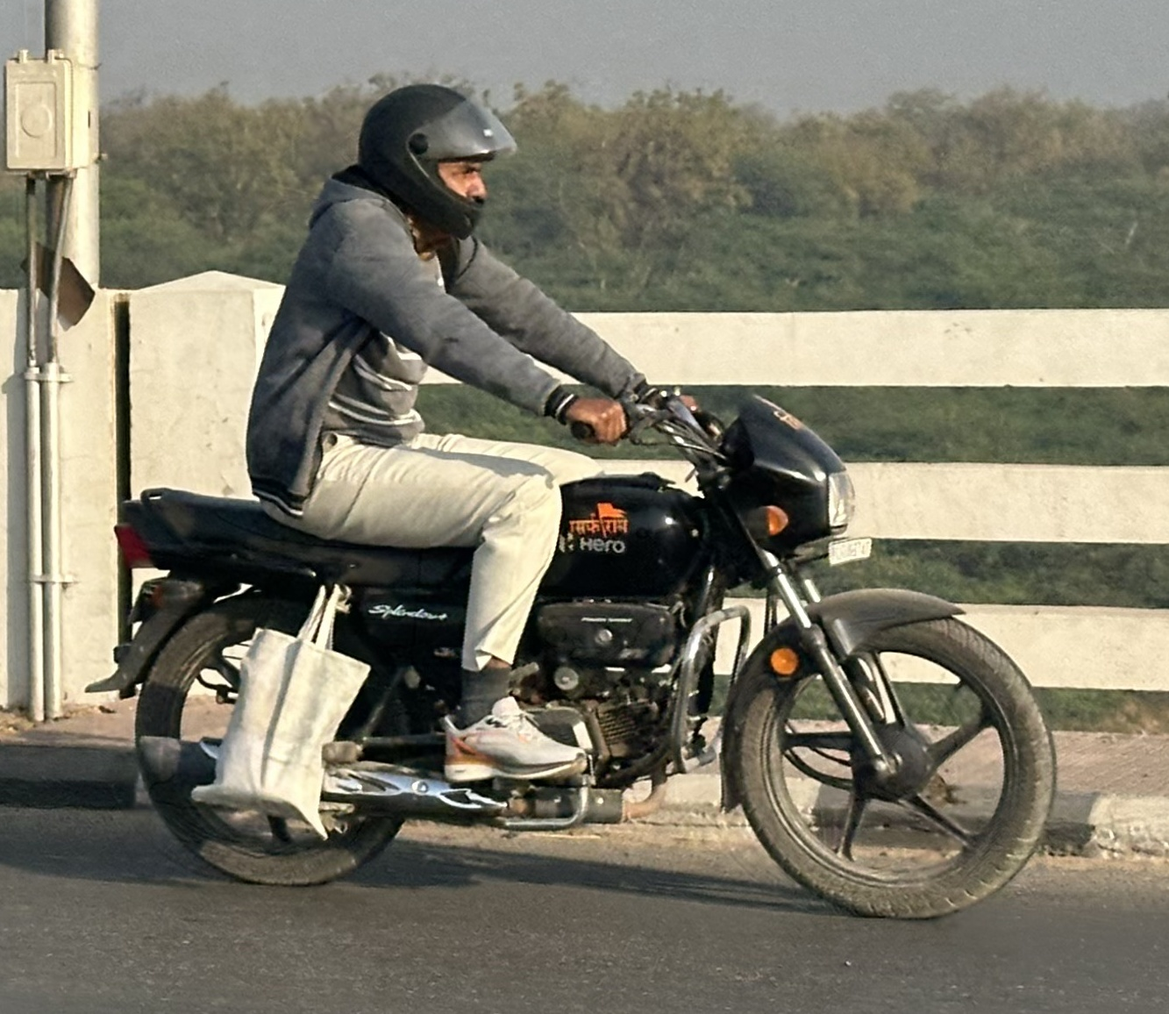BikeWithRider: (73, 69, 1071, 931)
Helmet: (331, 71, 532, 249)
